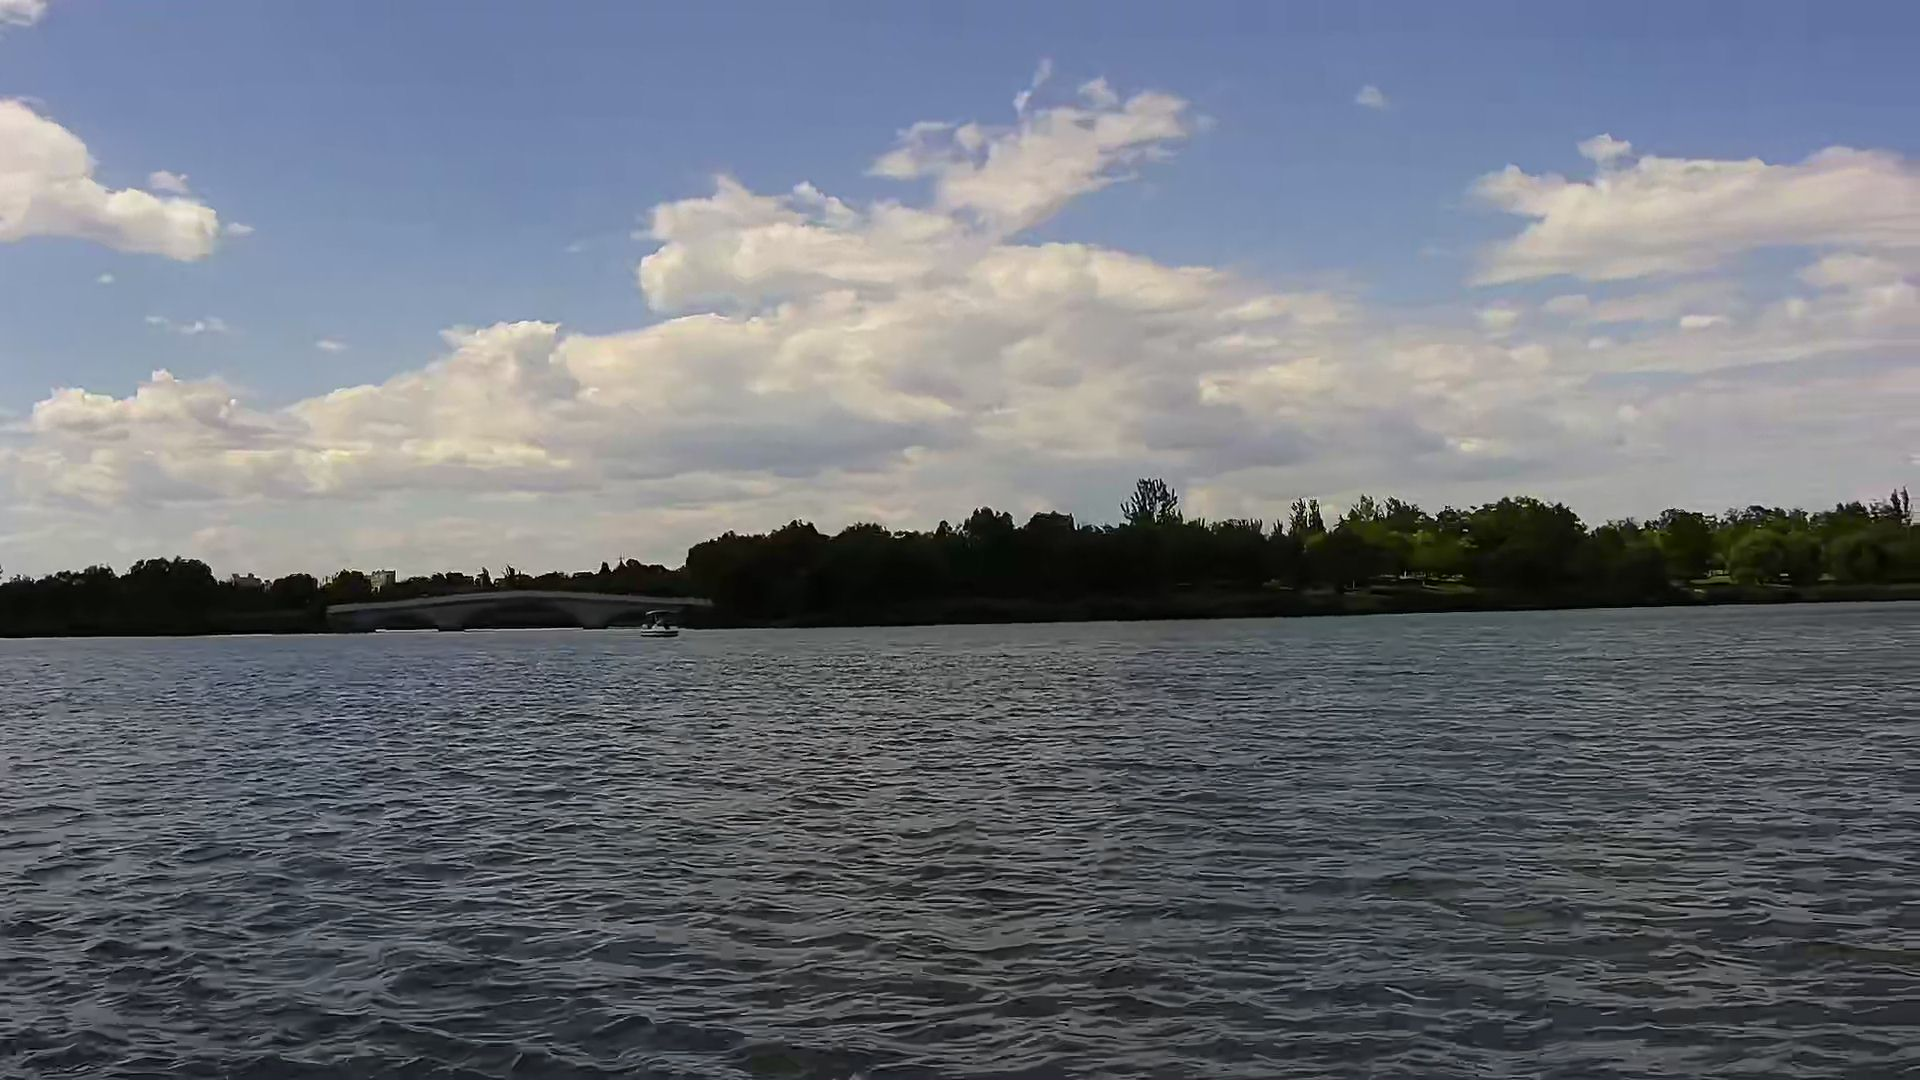boat: (637, 608, 675, 636)
bridge: (330, 593, 715, 626)
